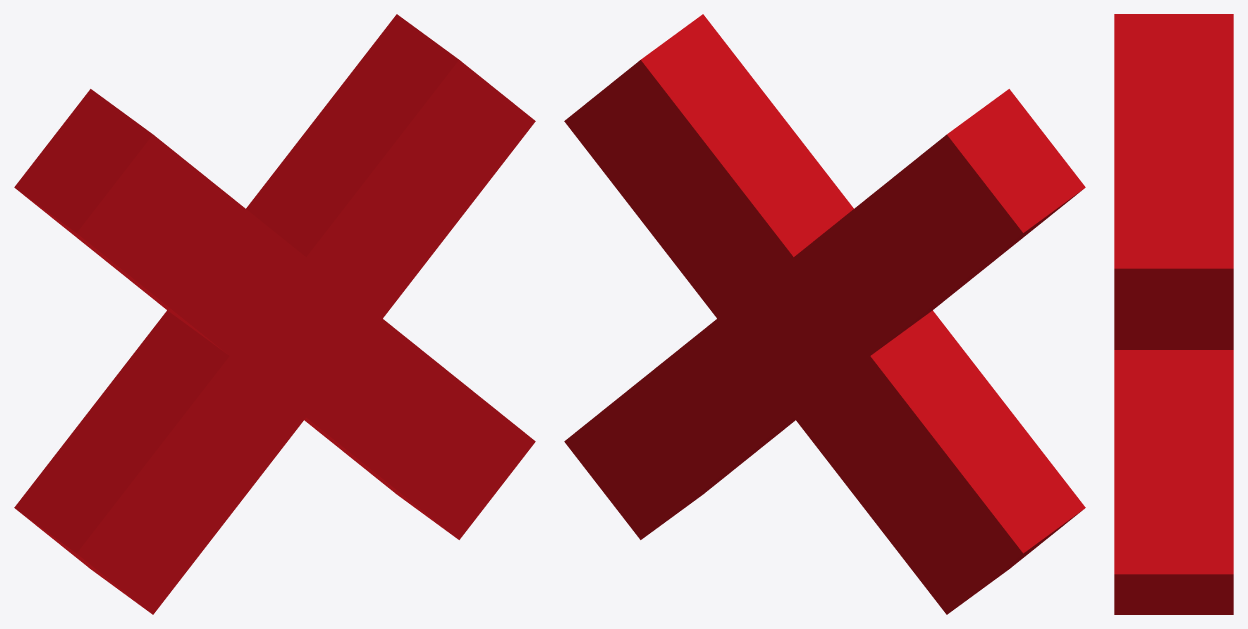
File: cross.fbx
3 views of the same model, side by side, from view 1: azimuth 30°, elevation 25°; view 2: azimuth 150°, elevation 25°; view 3: azimuth 270°, elevation 25° (orthographic). The views are drawn at different scales.
Visible parts, largest first — view 1: Cube; view 2: Cube; view 3: Cube.
Part boxes in pixels (<box>): Cube: <box>14,14,535,614</box>; Cube: <box>564,14,1085,614</box>; Cube: <box>1114,14,1233,614</box>.
Bounding box in the file's own units: 42.43 × 42.43 × 10.
